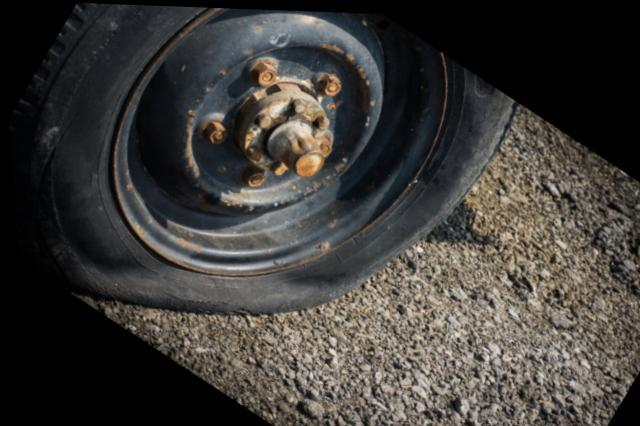tire flat: (7, 2, 516, 315)
